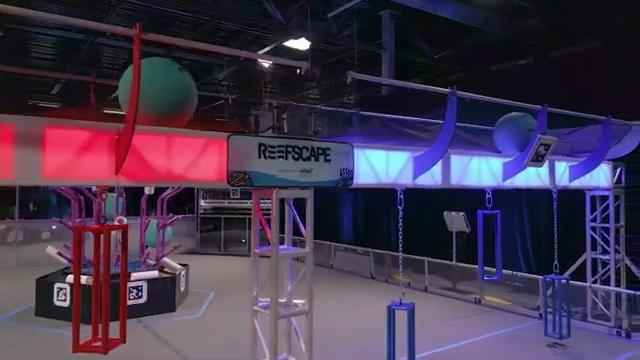ALGAE: (116, 55, 198, 128), (493, 111, 540, 156)
